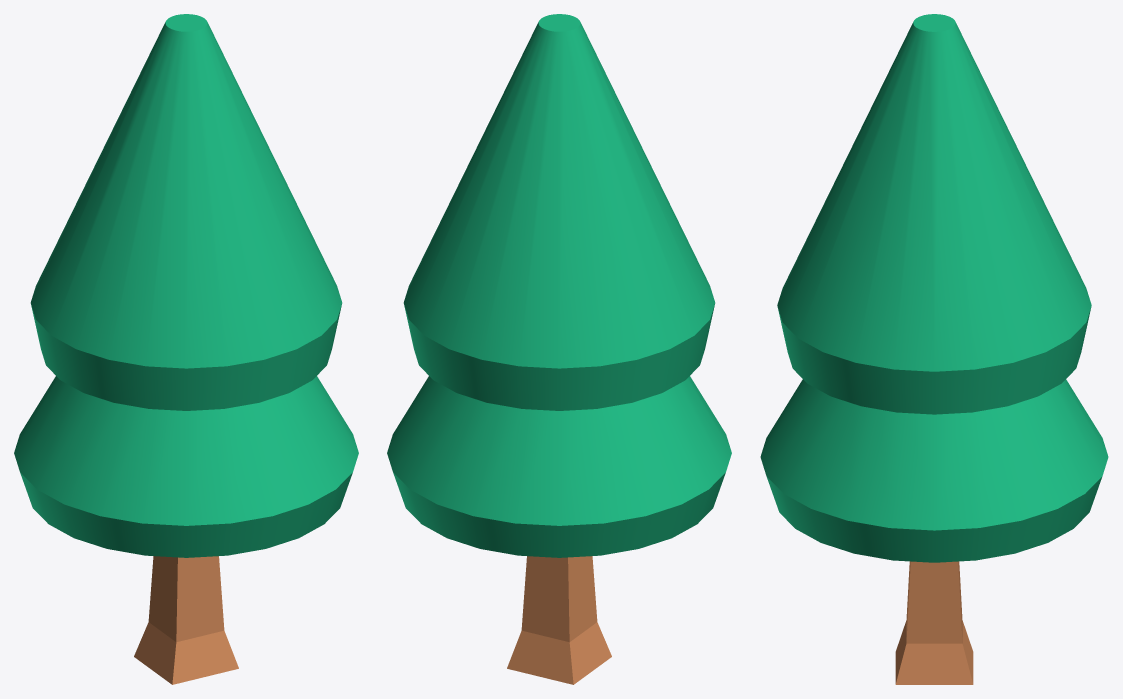
The model's file is treePine.fbx.
3 views of the same model, side by side, from view 1: azimuth 30°, elevation 25°; view 2: azimuth 150°, elevation 25°; view 3: azimuth 270°, elevation 25° (orthographic).
Visible parts, largest first — view 1: treePine; view 2: treePine; view 3: treePine.
Part boxes in pixels (bbox=[...]): treePine: bbox=[14, 14, 358, 684]; treePine: bbox=[387, 14, 731, 684]; treePine: bbox=[760, 14, 1108, 684].
Bounding box in the file's own units: 9.48 × 19.41 × 9.48.
